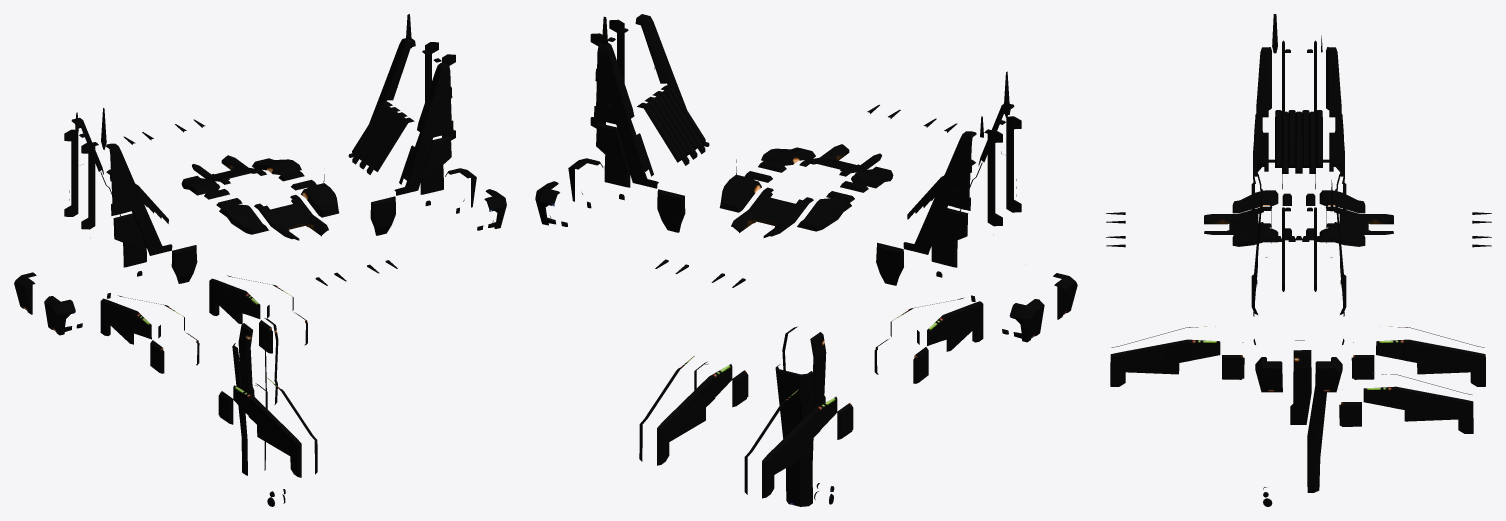
The model's file is tan_outpost_01.glb.
3 views of the same model, side by side, from view 1: azimuth 30°, elevation 25°; view 2: azimuth 150°, elevation 25°; view 3: azimuth 270°, elevation 25° (orthographic). The views are drawn at different scales.
Parts seen in each view (by area): view 1: tan_outpost_01_LOD0; view 2: tan_outpost_01_LOD0; view 3: tan_outpost_01_LOD0.
Boxes of the visible parts, x1,y1,x2,y2 form: tan_outpost_01_LOD0: [14, 14, 506, 506]; tan_outpost_01_LOD0: [535, 14, 1077, 506]; tan_outpost_01_LOD0: [1106, 14, 1491, 506].
Size of what is drawn, in the model's own units: 31.58 by 29.06 by 24.65.
Materials: 1 (1 with a texture image).
